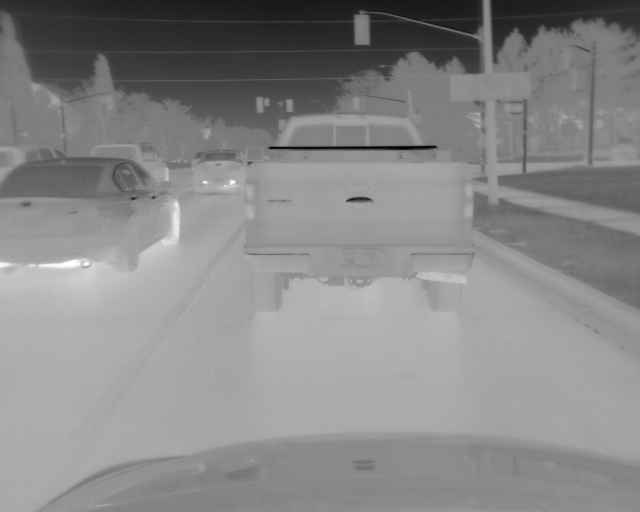car: (243, 112, 476, 315), (1, 155, 181, 268), (87, 141, 171, 188), (189, 149, 248, 193), (1, 145, 65, 179)
